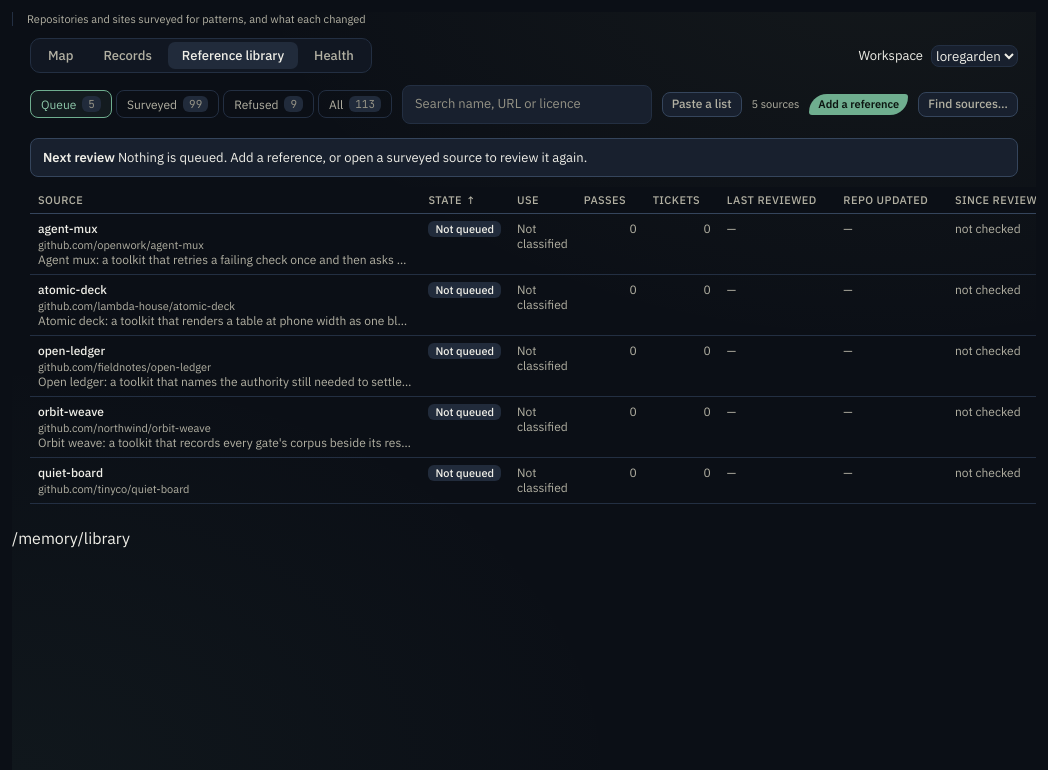
the reference library at production volume › opens on the queue, counts every view, and lists all 113 sources under All
Expected: the button "Queue 5" is shown, [30, 90, 112, 118]
Expected: the button "Surveyed 99" is shown, [116, 90, 219, 118]
Click the button "All 113".
click(355, 104)  # box [318, 90, 392, 118]
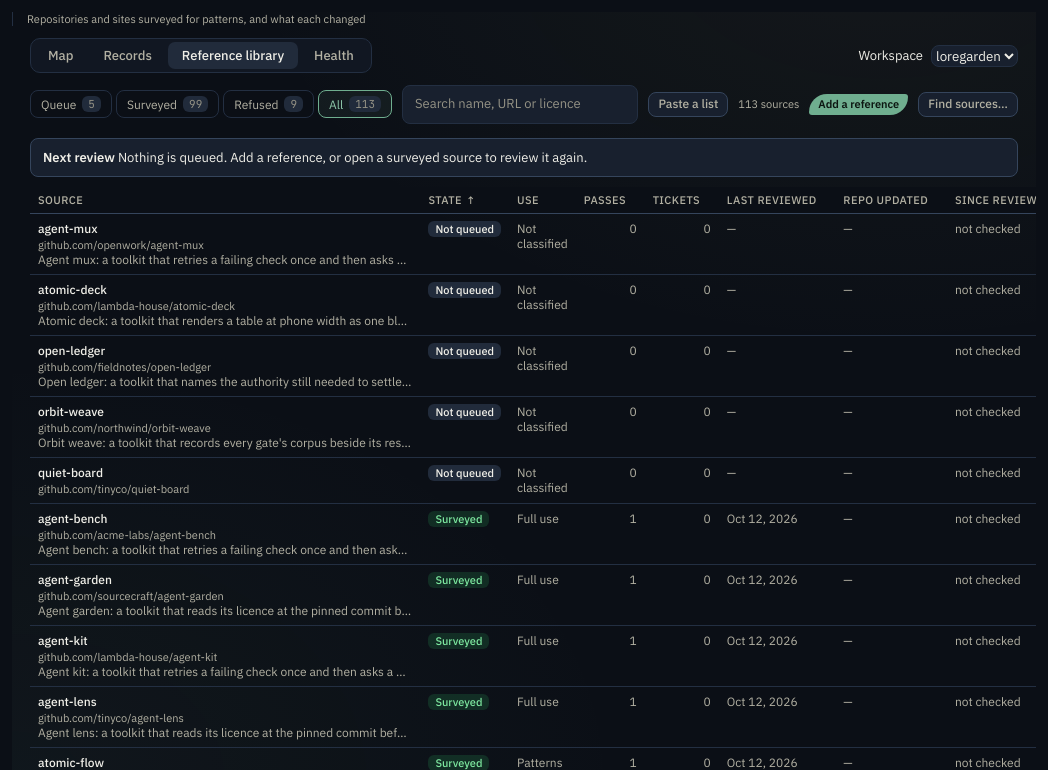
Now the number of rows is 114
